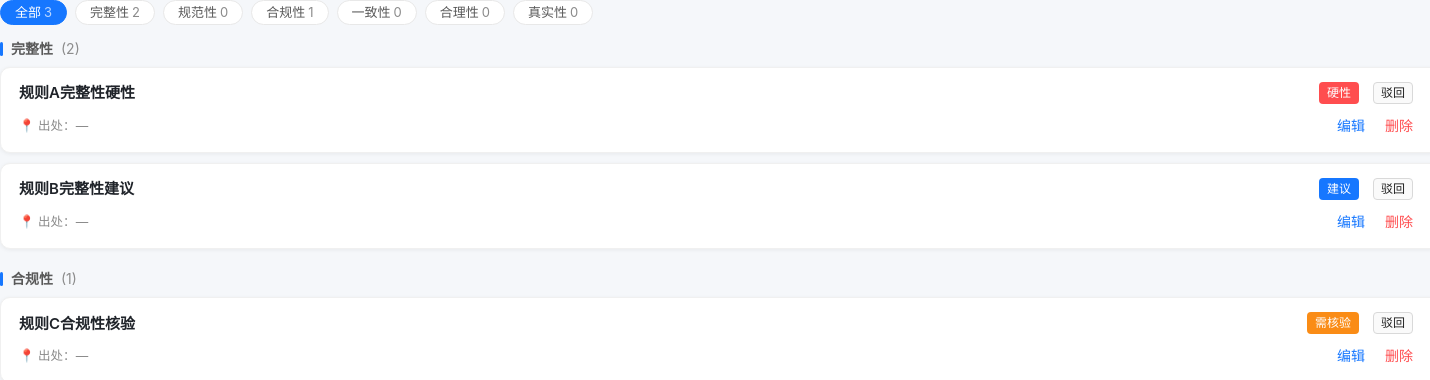
点击维度 chip 后点「全部」恢复所有规则
The width and height of the screenshot is (1430, 380).
Click the element with test id "chip-compliance".
click(290, 12)  # box [251,0,328,25]
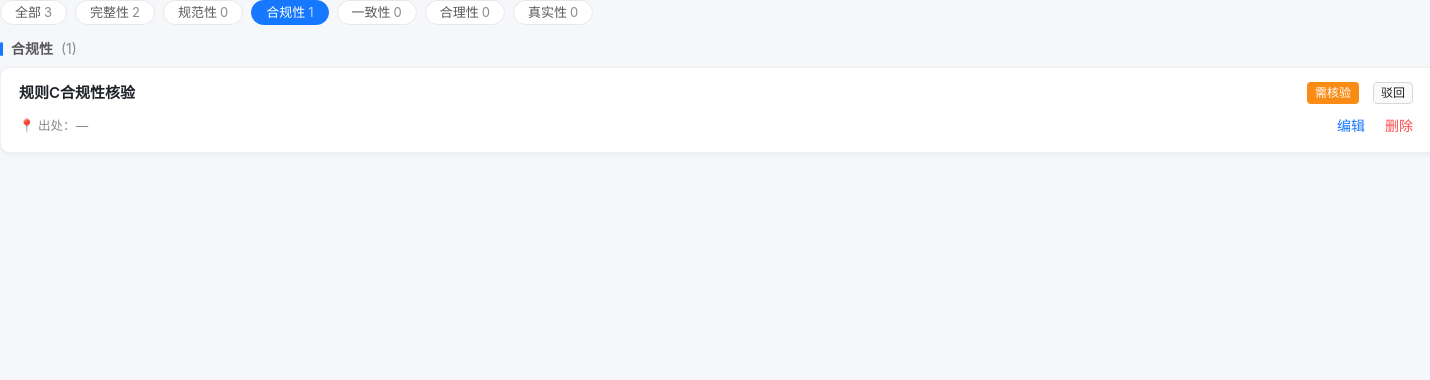
Click the element with test id "chip-all".
click(34, 12)  # box [0,0,67,25]
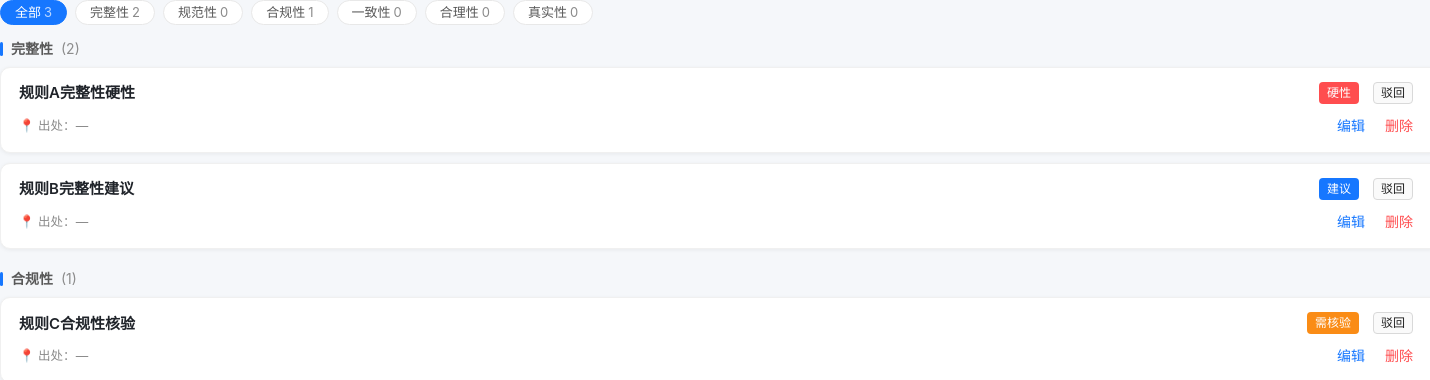
Expected: the text "规则C合规性核验" is shown, [19,314,135,332]
Expected: the text "规则A完整性硬性" is shown, [19,84,135,102]
Expected: the text "规则B完整性建议" is shown, [19,180,134,198]
